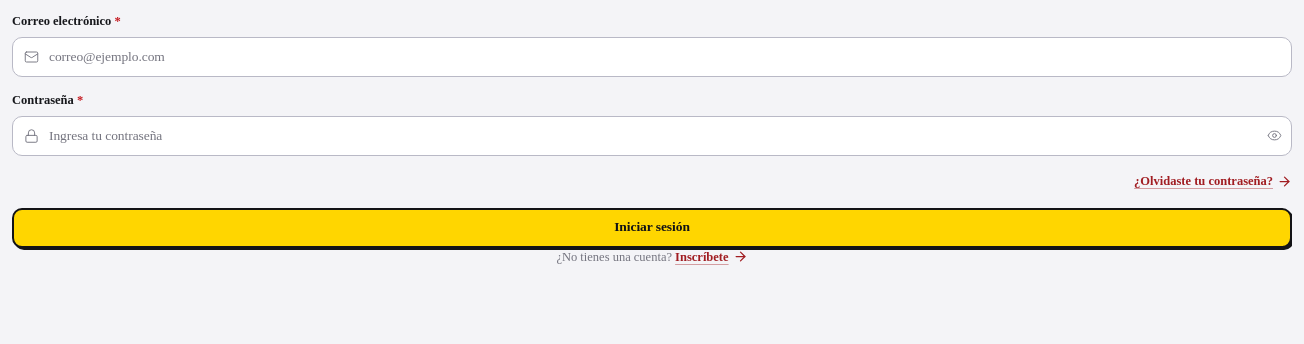
it: LoginPage › failed submission › retires the inline failure as soon as the person edits a field
Type "user@cataclub.com" into the field labelled "Correo electrónico *" at (652, 57), box [12,37,1292,77]
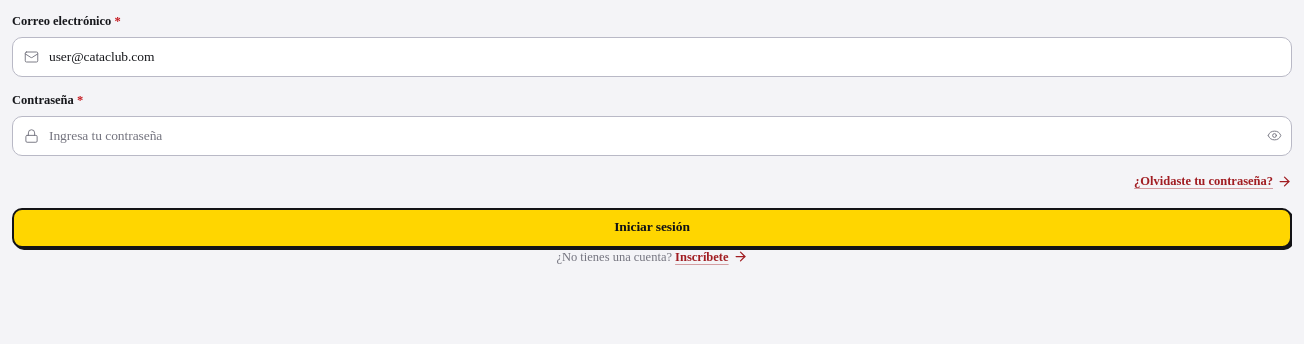
Type "secret123" into the password field labelled "Contraseña *" at (652, 136), box [12,116,1292,156]
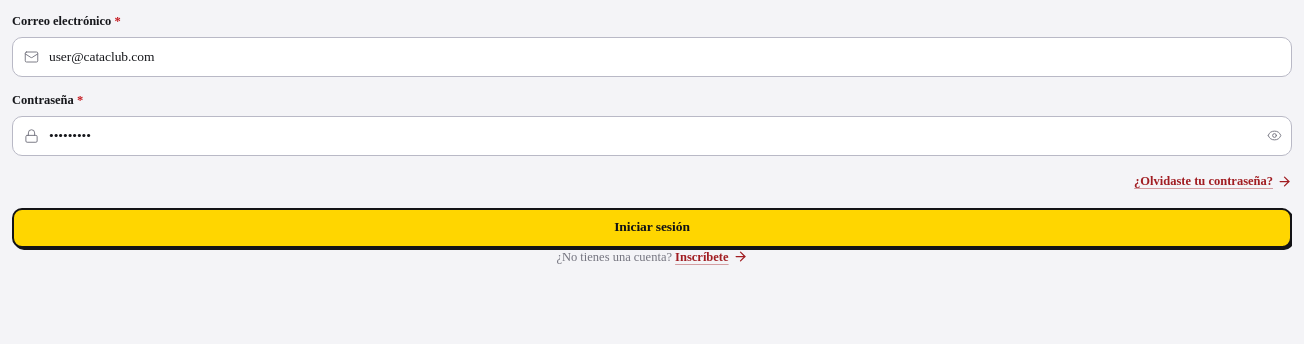
Click the button "Iniciar sesión" at (652, 228), box [12,208,1292,248]
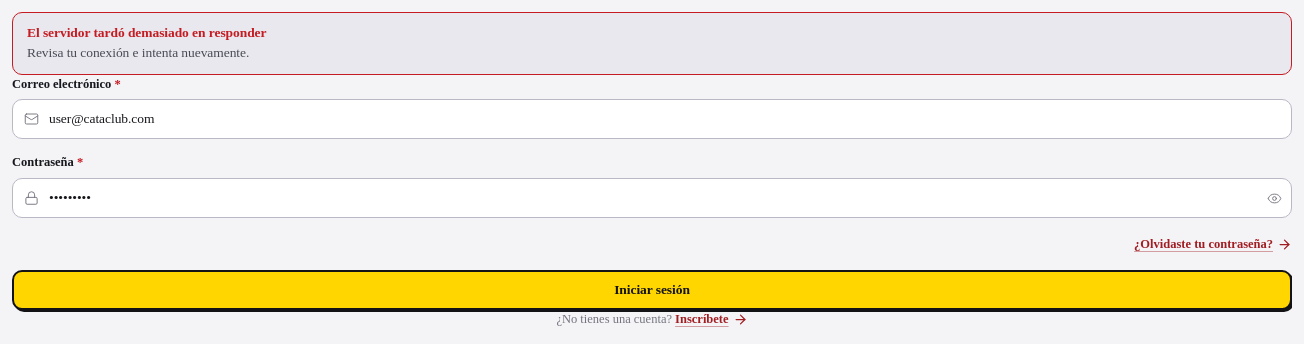
Now the message with test id "login-failure" is shown, box [12,12,1292,74]
Type "otra-clave" into the password field labelled "Contraseña *" at (652, 198), box [12,178,1292,218]
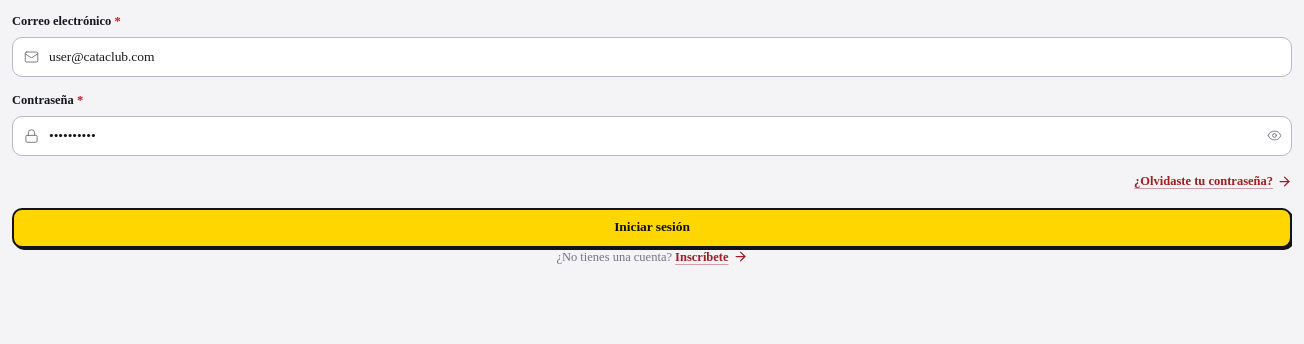
Now the message with test id "login-failure" is gone
